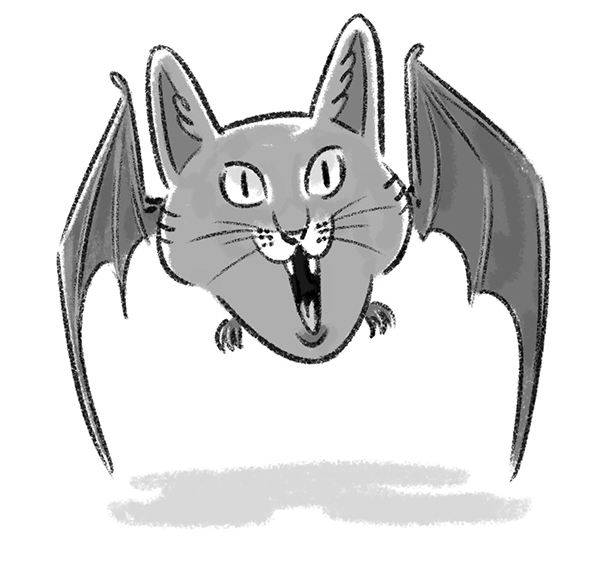cat: (108, 45, 478, 418)
